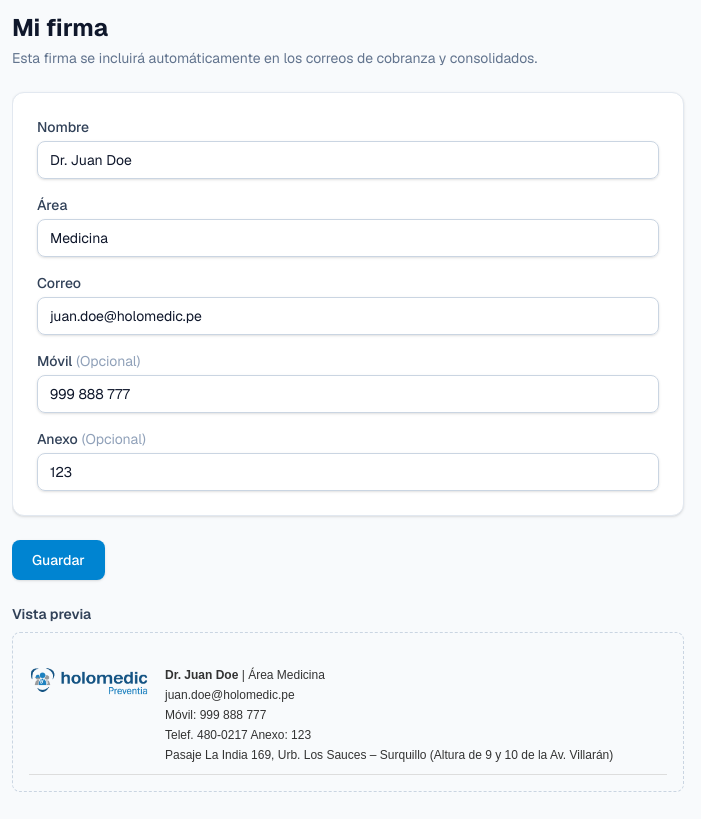
FirmaForm › a valid submit persists through the API and shows success feedback
Click the button "Guardar" at (58, 560), box x1=12 y1=540 x2=105 y2=580
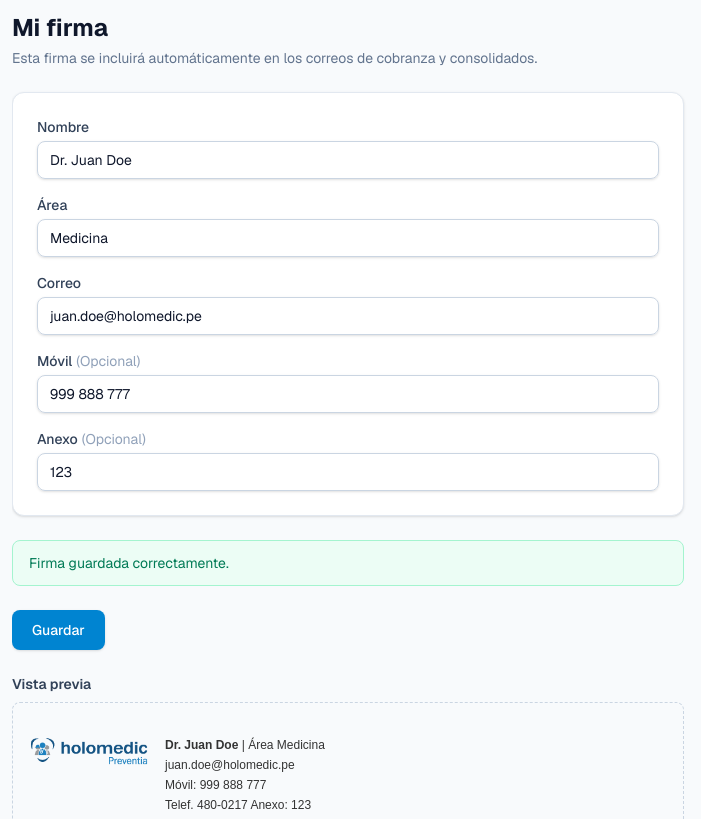
Result: the message reads "Firma guardada correctamente." at x1=29 y1=554 x2=229 y2=572
